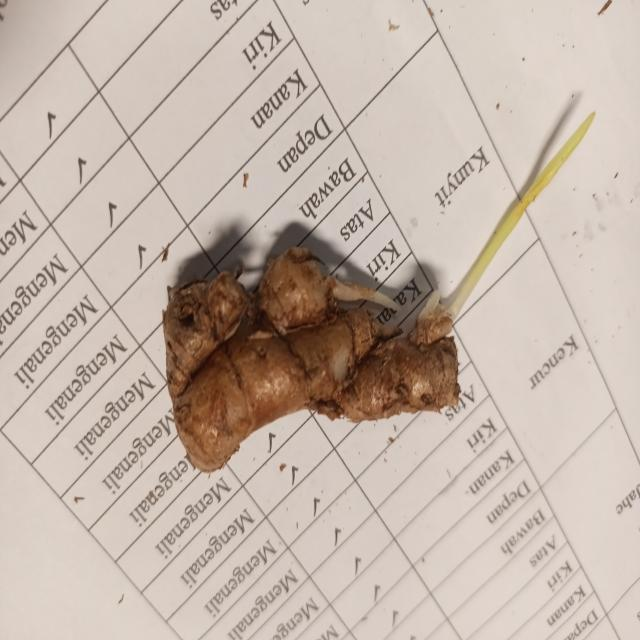ginger: (166, 243, 459, 457)
